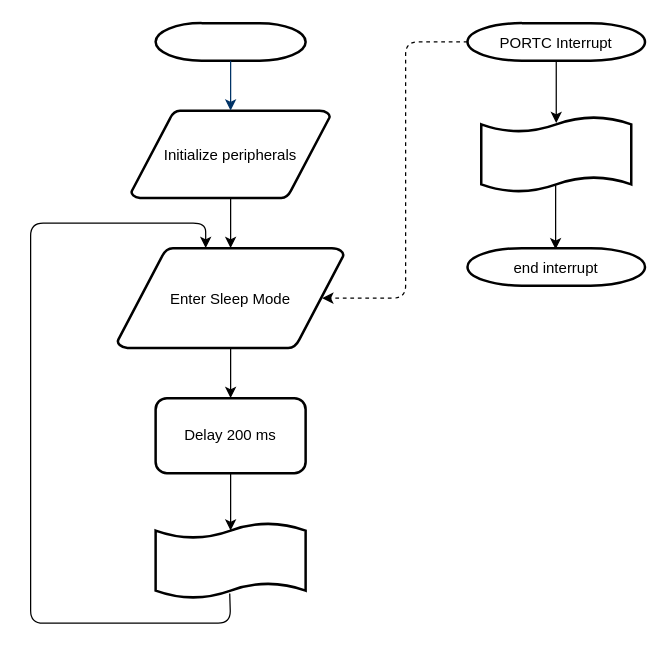
Some shapes in this 668 by 655 pixel diagram are drawn without their labels. The shapes that lost their labels are listed below. From the top down, each one's box as (x1, y1, x2, y2) in pixels, then its label:
(154, 21, 306, 61): main start
(479, 115, 632, 192): Turn On LED
(154, 521, 306, 599): Turn Off LED
